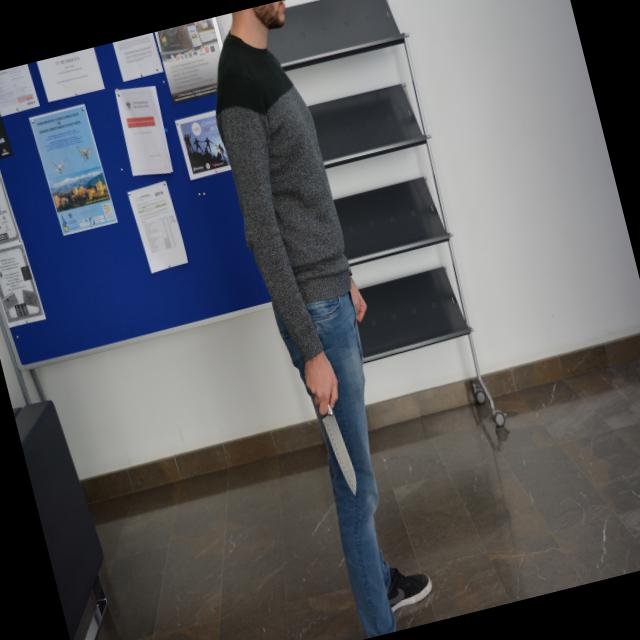knife: (312, 392, 364, 504)
